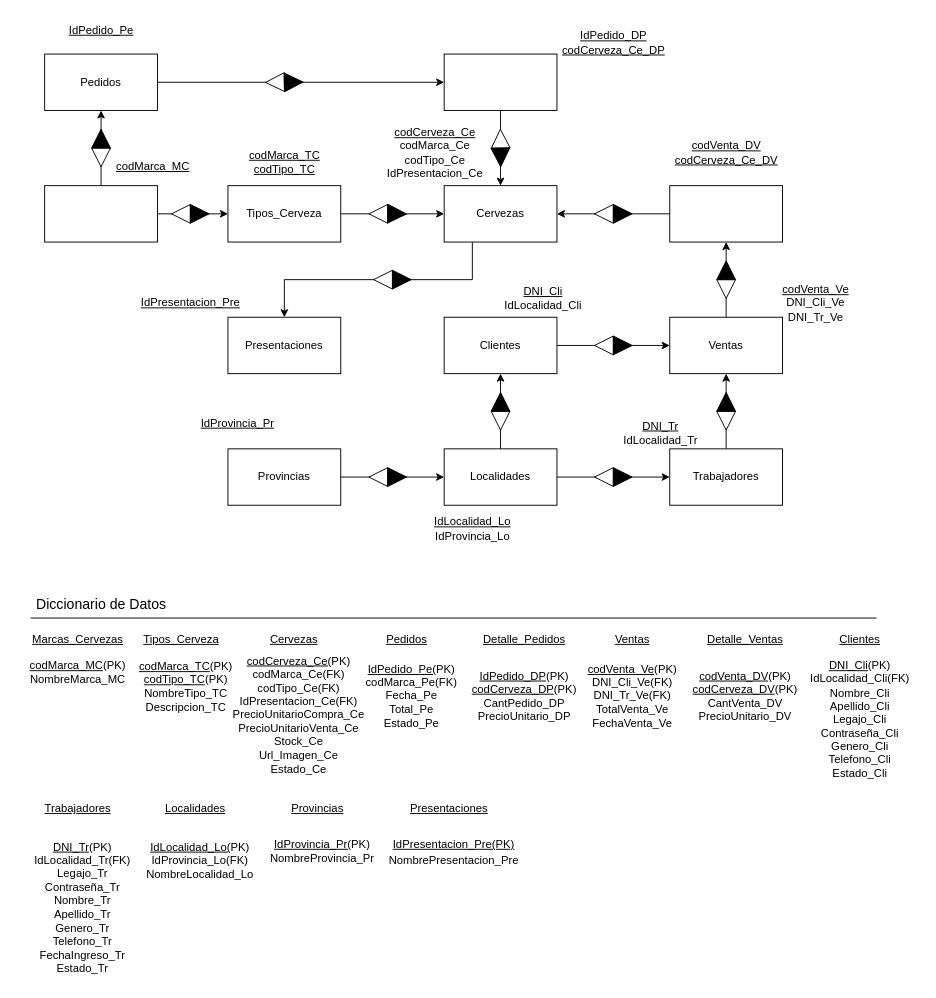
Image size: 936x998. Some labels were removed from this diagram. Here are the shapes that lost their labels. From the top down, the centre of each, then its label:
the point at 500,81: DetallePedidos
the point at 100,213: Marcas_Cerveza
the point at 726,213: DetalleVentas
